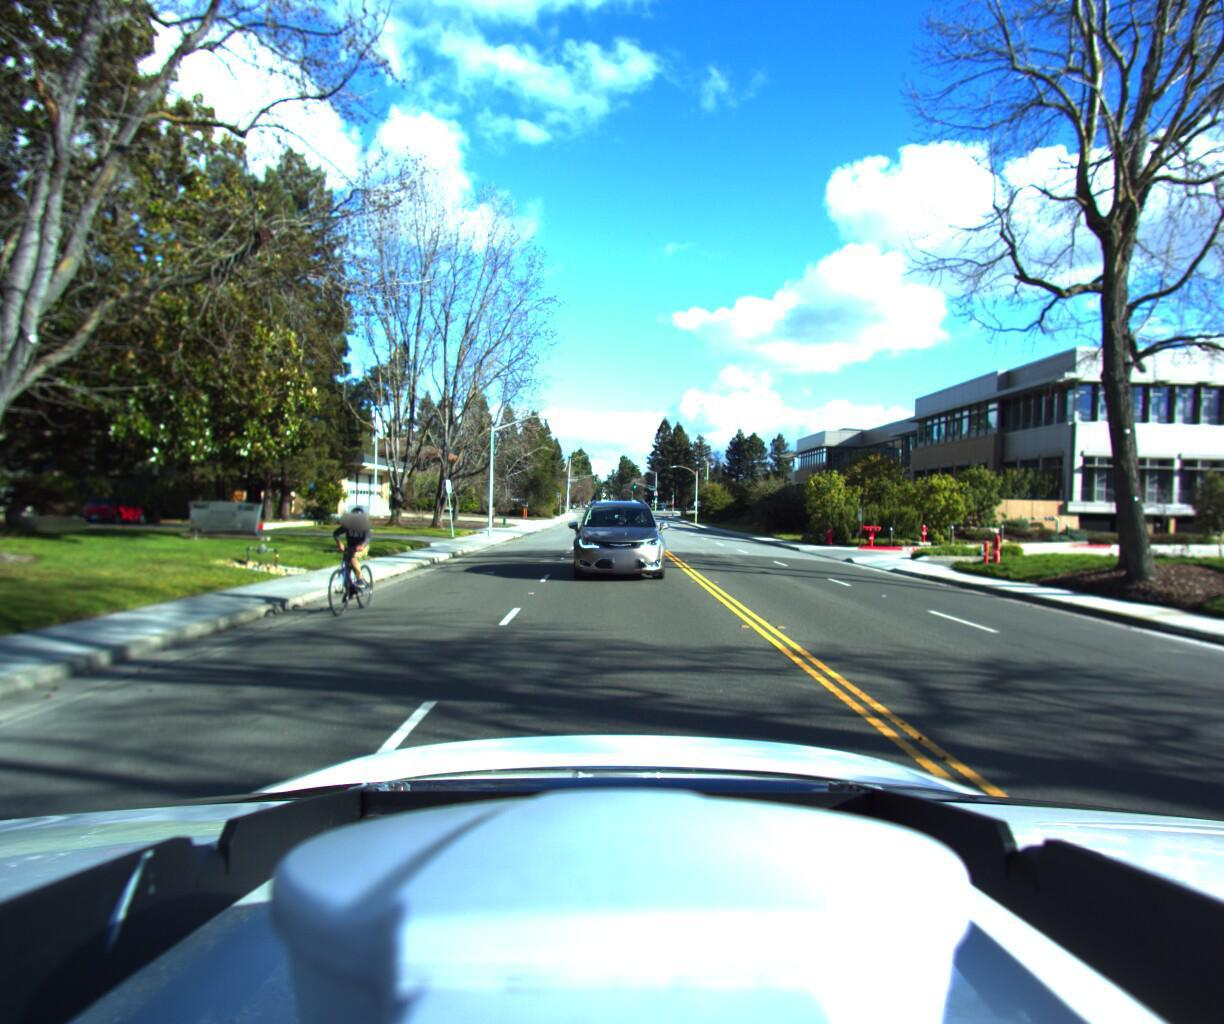bicycle: (295, 495, 385, 619)
car: (561, 485, 669, 581)
